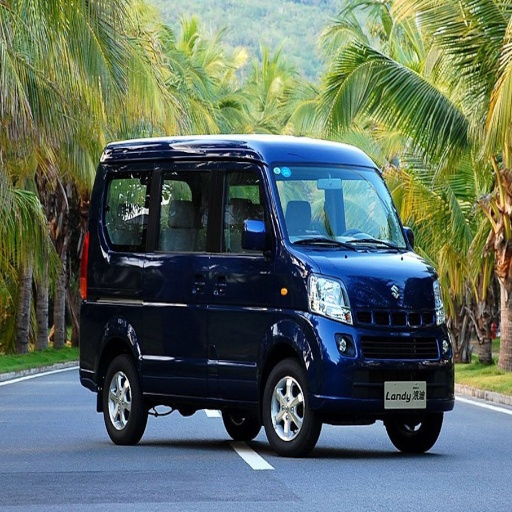front_bumper: (305, 279, 453, 422)
front_right_door: (195, 158, 276, 387)
front_right_light: (309, 275, 353, 323)
